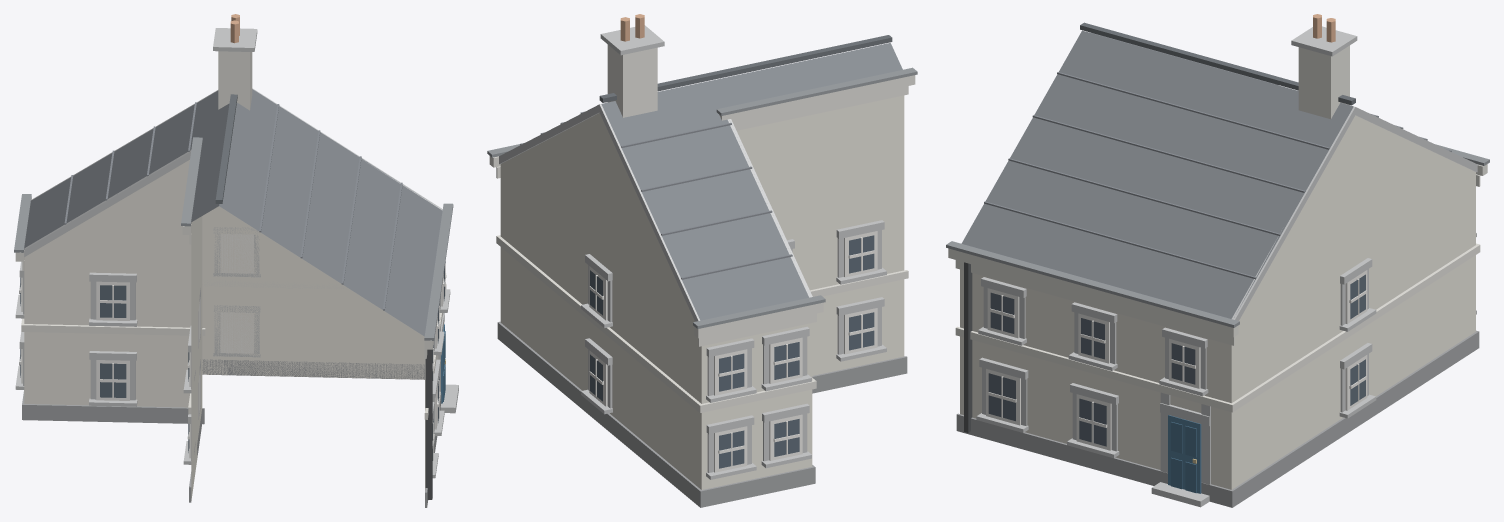
The picture shows the model from 3 angles, left to right: view 1: azimuth 30°, elevation 25°; view 2: azimuth 150°, elevation 25°; view 3: azimuth 270°, elevation 25°; orthographic projection. The views are drawn at different scales.
Visible parts, largest first — view 1: harl_cream, slate, stone_band, plinth, frame, lead, string, slate_lt, chim_render, pipe, slate_dk, window_glass_012 (+1 smaller); view 2: harl_cream, slate, stone_band, string, plinth, frame, chim_render, lead, slate_dk, slate_lt, window_glass_008, window_glass_009 (+5 smaller); view 3: harl_cream, slate, stone_band, string, plinth, frame, slate_lt, chim_render, lead, slate_dk, pipe, door_blue_p (+6 smaller).
Boxes of the visible parts, x1,y1,x2,y2 form: harl_cream: [24, 160, 438, 500]; slate: [24, 89, 442, 336]; stone_band: [15, 28, 458, 478]; plinth: [22, 359, 441, 507]; frame: [19, 234, 446, 460]; lead: [14, 137, 453, 340]; string: [15, 199, 446, 419]; slate_lt: [64, 102, 402, 310]; chim_render: [218, 51, 252, 110]; pipe: [425, 349, 432, 499]; slate_dk: [215, 94, 237, 203]; window_glass_012: [100, 363, 126, 397]; harl_cream: [500, 95, 904, 489]; slate: [601, 43, 902, 320]; stone_band: [499, 25, 886, 479]; string: [489, 75, 915, 412]; plinth: [497, 321, 907, 507]; frame: [589, 231, 877, 472]; chim_render: [607, 44, 657, 117]; lead: [487, 67, 917, 328]; slate_dk: [599, 35, 892, 102]; slate_lt: [520, 111, 792, 279]; window_glass_008: [719, 430, 744, 468]; window_glass_009: [719, 353, 744, 391]; harl_cream: [960, 115, 1475, 489]; slate: [961, 30, 1353, 318]; stone_band: [976, 26, 1477, 507]; string: [948, 164, 1487, 412]; plinth: [956, 330, 1479, 507]; frame: [986, 270, 1367, 450]; slate_lt: [984, 72, 1451, 279]; chim_render: [1298, 45, 1349, 119]; lead: [946, 32, 1489, 327]; slate_dk: [1080, 22, 1355, 105]; pipe: [964, 262, 972, 432]; door_blue_p: [1171, 422, 1196, 493].
Bounding box in the file's own units: 11.59 × 10.87 × 13.37.
